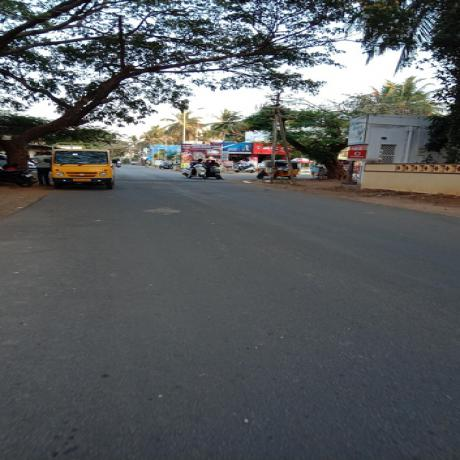Speed Bump: (115, 175, 246, 184)
